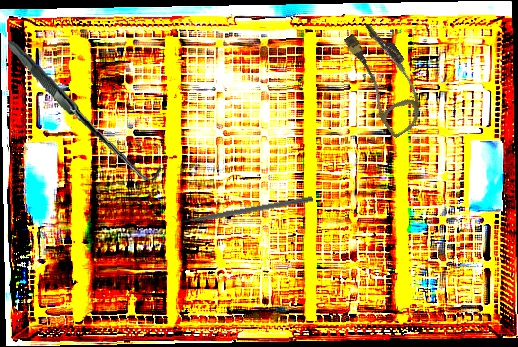Cannula: (332, 17, 439, 140)
Chopper: (171, 188, 314, 227)
Hook Surgical: (8, 27, 162, 192)
